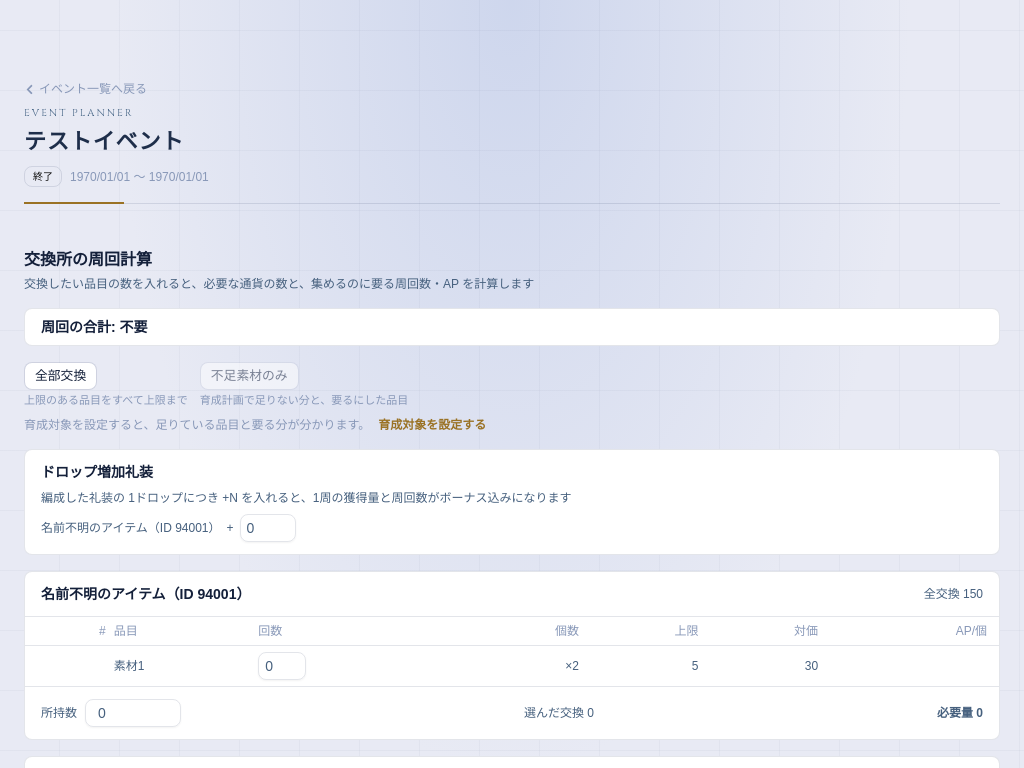
it: EventHubClient › ドロップの統計が無いときは上部の1行にもその旨を短く出す
Replace the text in the number field named "素材1 の交換回数" with "1". click: (282, 666)
box: [258,652,306,680]
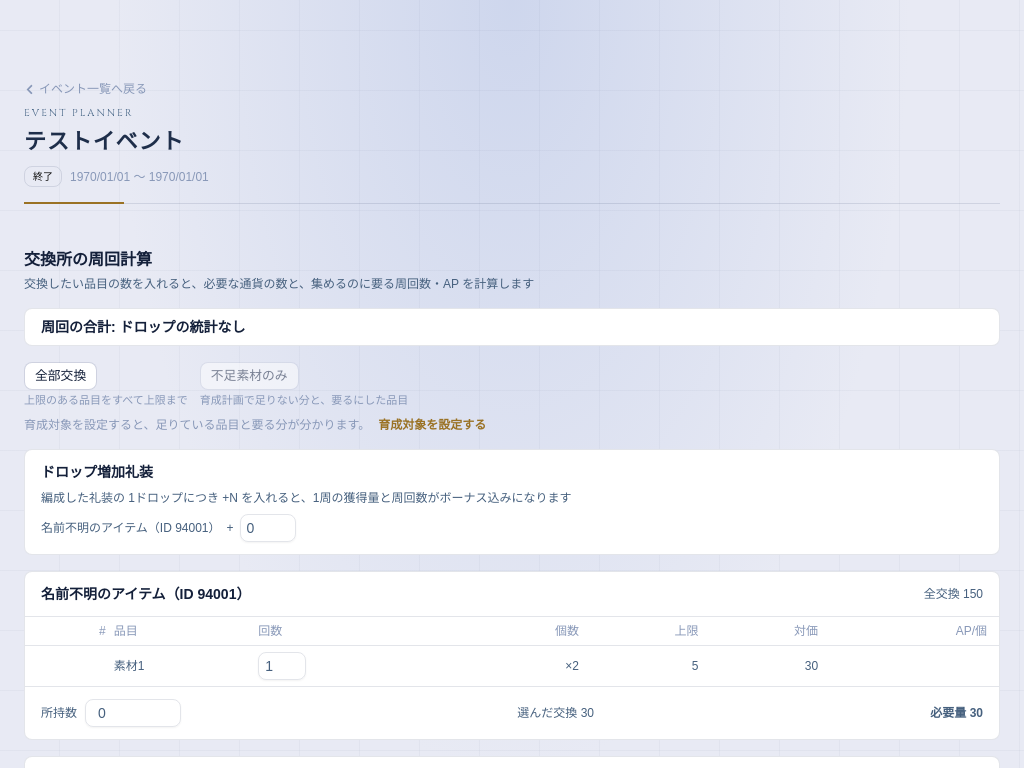
Result: the text with test id "shop-plan-summary" reads "周回の合計: ドロップの統計なし" at [41,319,246,335]
